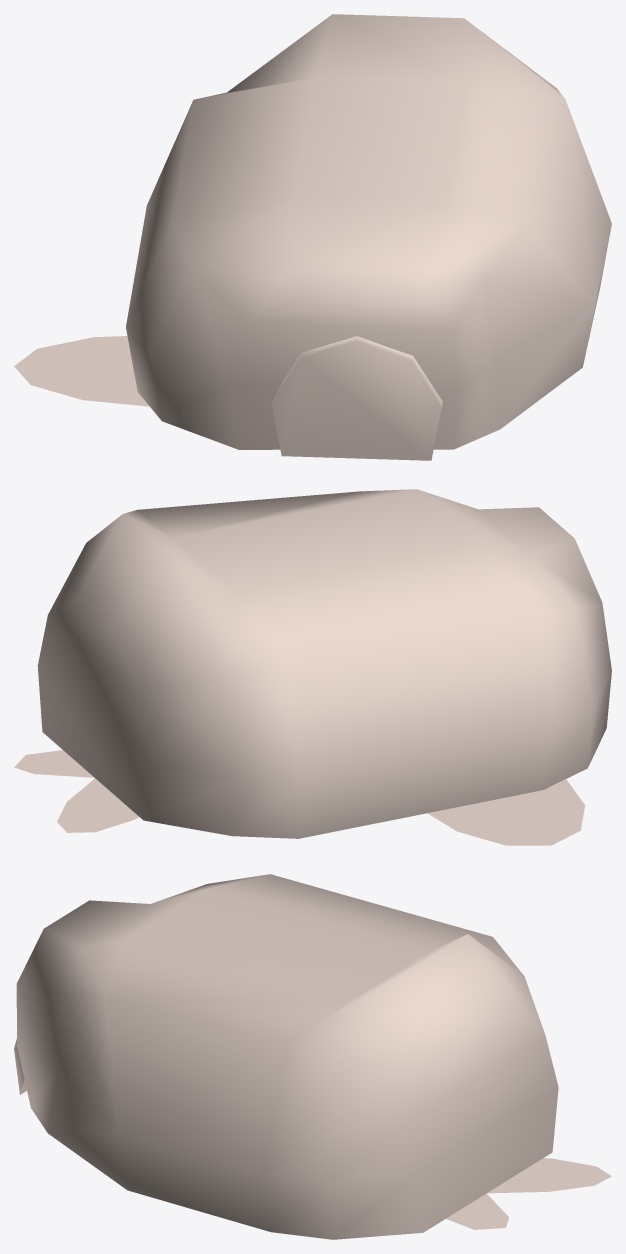
Rendered from interactible_plushy.fbx.
3 views of the same model, one above another, from view 1: azimuth 30°, elevation 25°; view 2: azimuth 150°, elevation 25°; view 3: azimuth 270°, elevation 25° (orthographic). The views are drawn at different scales.
Visible parts, largest first — view 1: interactible_toy_seal_scorched; view 2: interactible_toy_seal_scorched; view 3: interactible_toy_seal_scorched.
Part boxes in pixels (x1=…): interactible_toy_seal_scorched: x1=14, y1=14, x2=611, y2=460; interactible_toy_seal_scorched: x1=14, y1=489, x2=611, y2=845; interactible_toy_seal_scorched: x1=14, y1=874, x2=611, y2=1239.
Bounding box in the file's own units: 1.09 × 0.4514 × 1.09.
